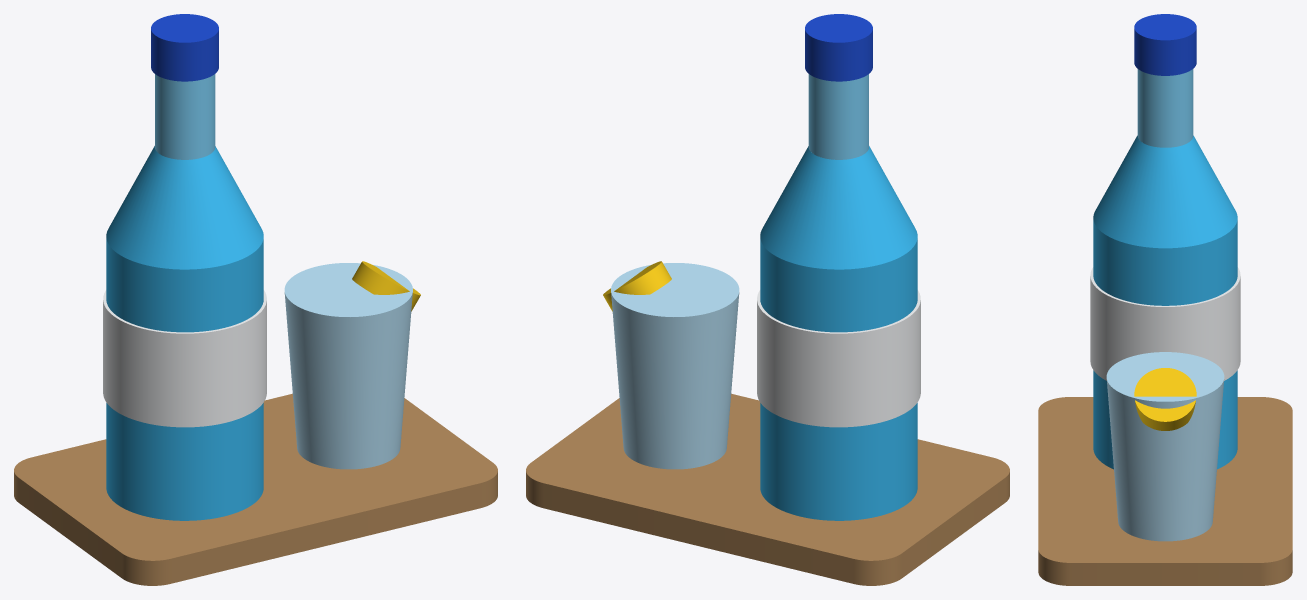
Rendered from water_bottle.glb.
3 renders of one model, left to right at view 1: azimuth 30°, elevation 25°; view 2: azimuth 150°, elevation 25°; view 3: azimuth 270°, elevation 25°, orthographic. The views are drawn at different scales.
Parts seen in each view (by area): view 1: w_coaster, w_body, w_glass, w_label, w_shoulder, w_neck, w_cap, w_lemon; view 2: w_coaster, w_body, w_glass, w_label, w_shoulder, w_neck, w_cap, w_lemon; view 3: w_coaster, w_glass, w_body, w_shoulder, w_label, w_neck, w_cap, w_lemon.
Boxes of the visible parts, x1,y1,x2,y2 form: w_coaster: (14, 393, 497, 585); w_body: (106, 238, 263, 520); w_glass: (284, 263, 412, 469); w_label: (103, 290, 266, 427); w_shoulder: (106, 146, 263, 269); w_neck: (155, 74, 215, 159); w_cap: (151, 14, 218, 81); w_lemon: (352, 261, 420, 311); w_coaster: (526, 393, 1009, 585); w_body: (760, 238, 917, 520); w_glass: (611, 263, 739, 469); w_label: (757, 290, 920, 427); w_shoulder: (760, 146, 917, 269); w_neck: (808, 74, 868, 159); w_cap: (805, 14, 872, 81); w_lemon: (603, 261, 671, 311); w_coaster: (1038, 397, 1292, 585); w_glass: (1106, 352, 1224, 541); w_body: (1093, 220, 1237, 469); w_shoulder: (1093, 135, 1237, 248); w_label: (1090, 267, 1240, 380); w_neck: (1137, 69, 1193, 147); w_cap: (1134, 14, 1196, 75); w_lemon: (1134, 368, 1196, 430).
Size of the model in its own units: 0.34 by 0.424 by 0.22.
